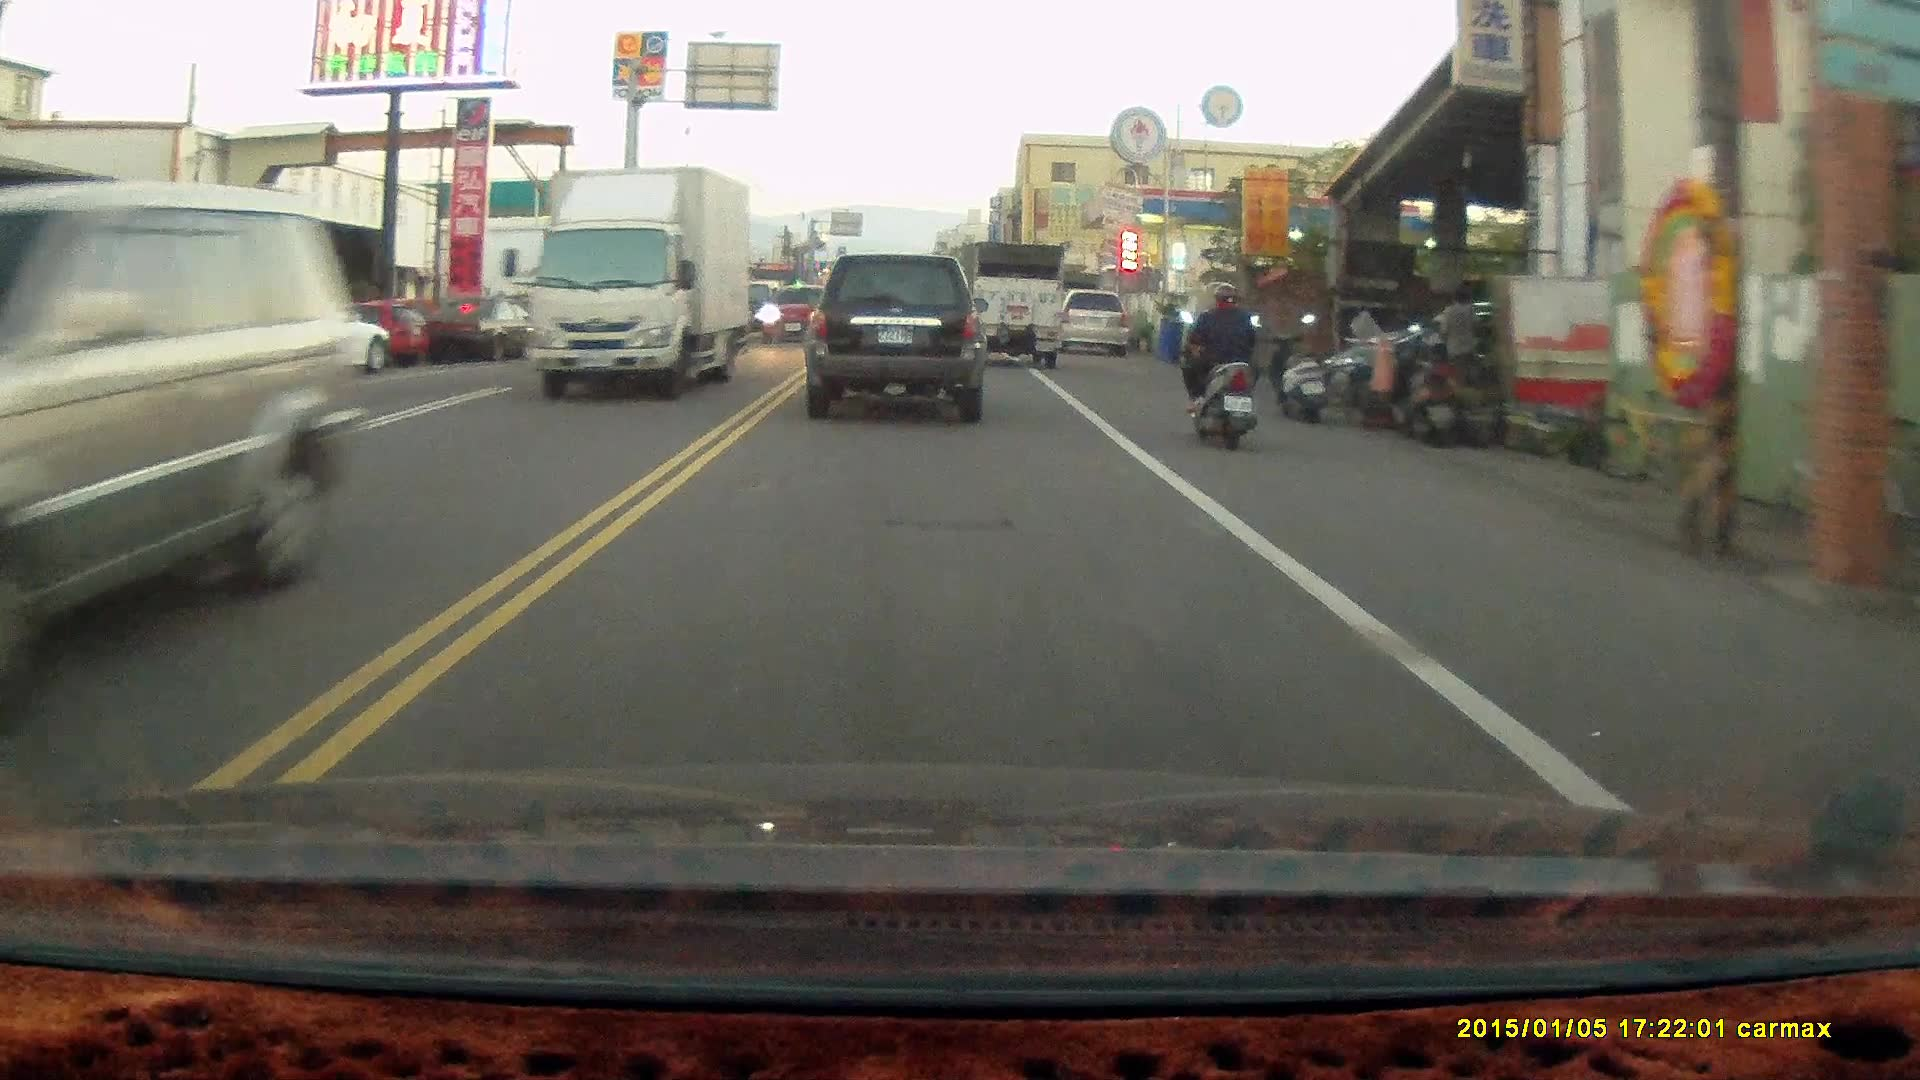pedestrian: (1435, 285, 1483, 415)
rider: (1175, 278, 1261, 450)
vehicle: (1, 181, 399, 661), (526, 162, 757, 401), (800, 249, 988, 422), (972, 237, 1065, 365), (1054, 286, 1130, 357)
